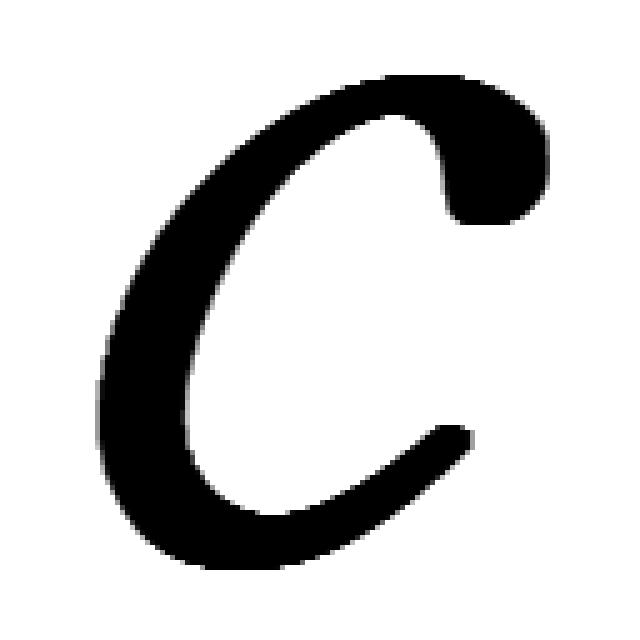C: (95, 75, 550, 575)
